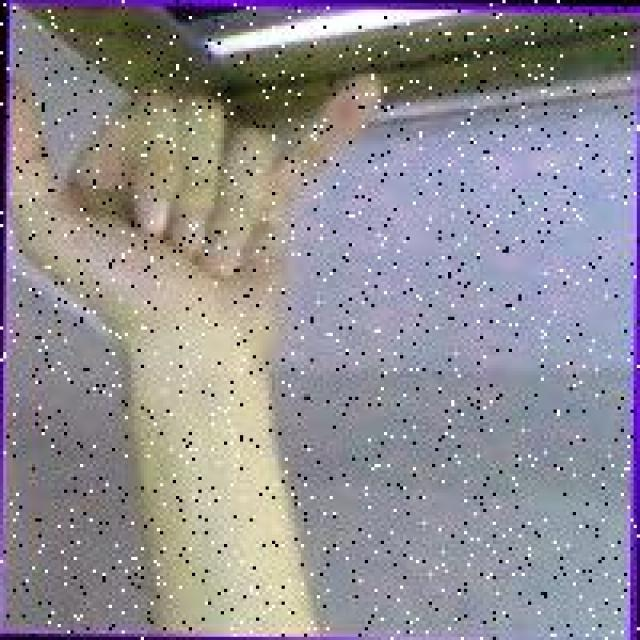Y: (5, 53, 382, 363)
